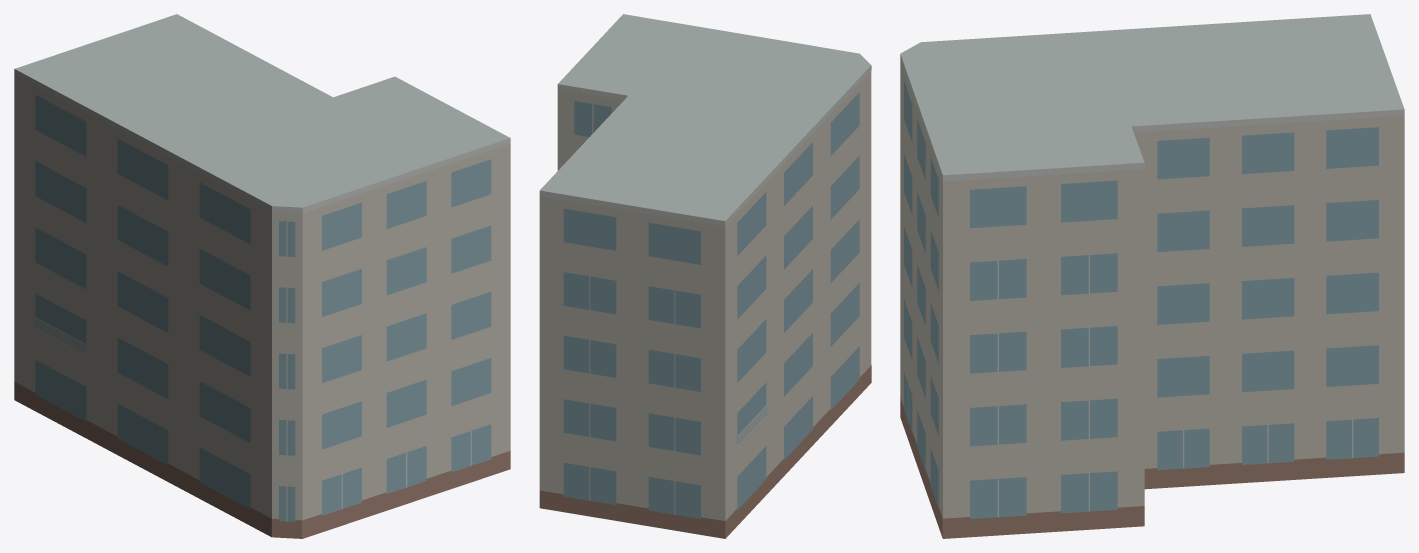
File: survey-upis-32575168.glb
3 renders of one model, left to right at view 1: azimuth 30°, elevation 25°; view 2: azimuth 150°, elevation 25°; view 3: azimuth 270°, elevation 25°, orthographic. The views are drawn at different scales.
Visible parts, largest first — view 1: survey-upis-32575168.tmp; view 2: survey-upis-32575168.tmp; view 3: survey-upis-32575168.tmp.
Part boxes in pixels (<box>): survey-upis-32575168.tmp: <box>14,14,510,538</box>; survey-upis-32575168.tmp: <box>539,14,871,538</box>; survey-upis-32575168.tmp: <box>900,14,1404,538</box>.
Bounding box in the file's own units: 13.62 × 14.3 × 17.99.
